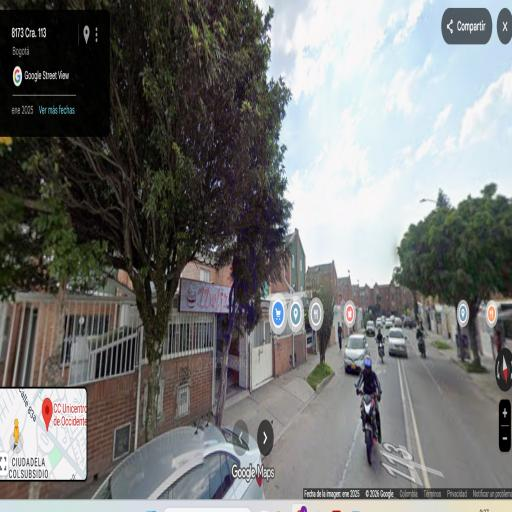fachada: (285, 226, 307, 291)
